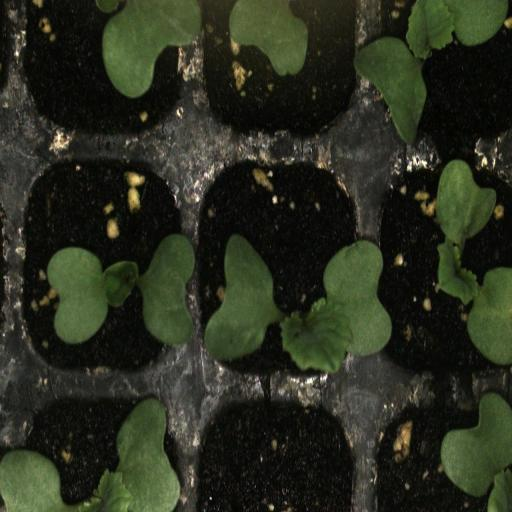seedling: (12, 142, 194, 382), (193, 138, 365, 384), (369, 138, 512, 384), (12, 383, 189, 512), (371, 0, 512, 138)
